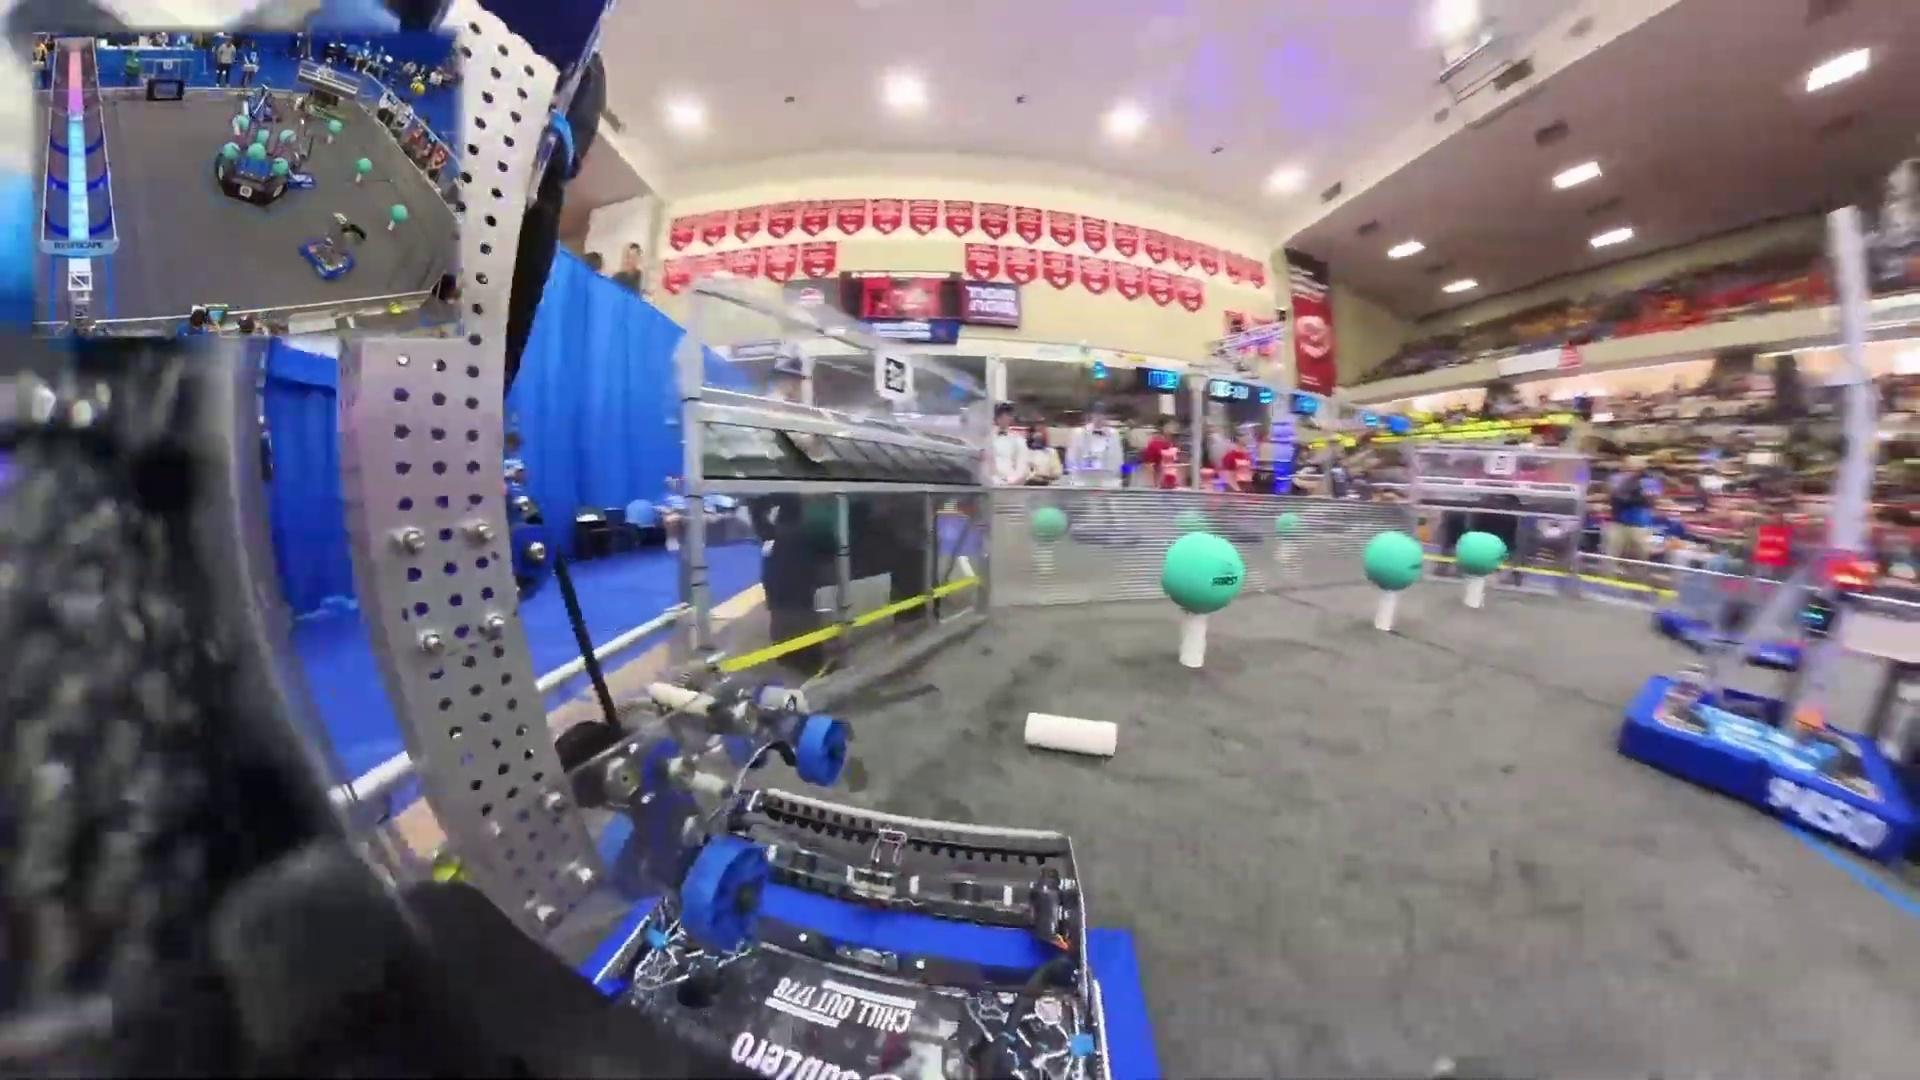robot: (1617, 208, 1920, 877), (1656, 534, 1804, 667), (297, 211, 361, 281), (287, 99, 319, 193), (248, 83, 282, 124)
